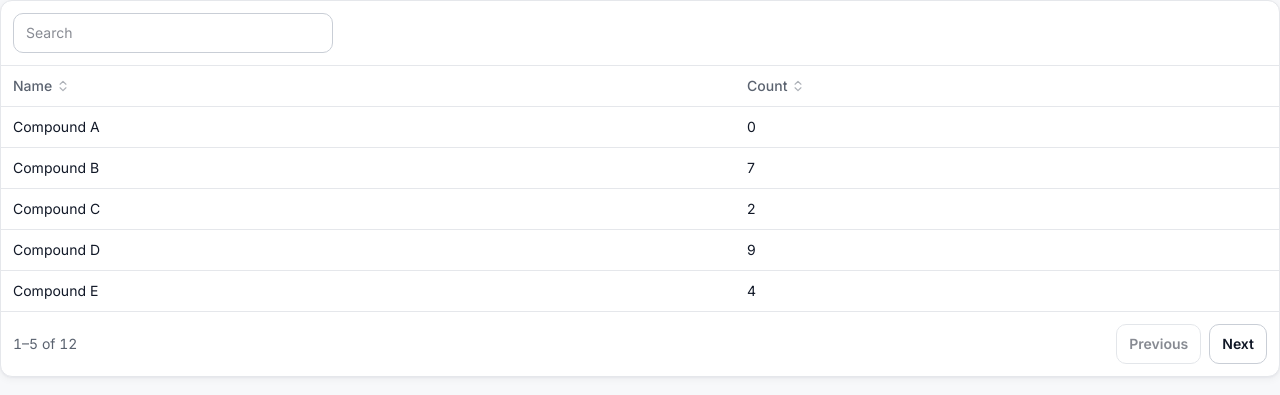
DataTable › sorts ascending then descending
The image size is (1280, 395).
Click the button "Count" at (776, 86), box x1=747 y1=76 x2=805 y2=96
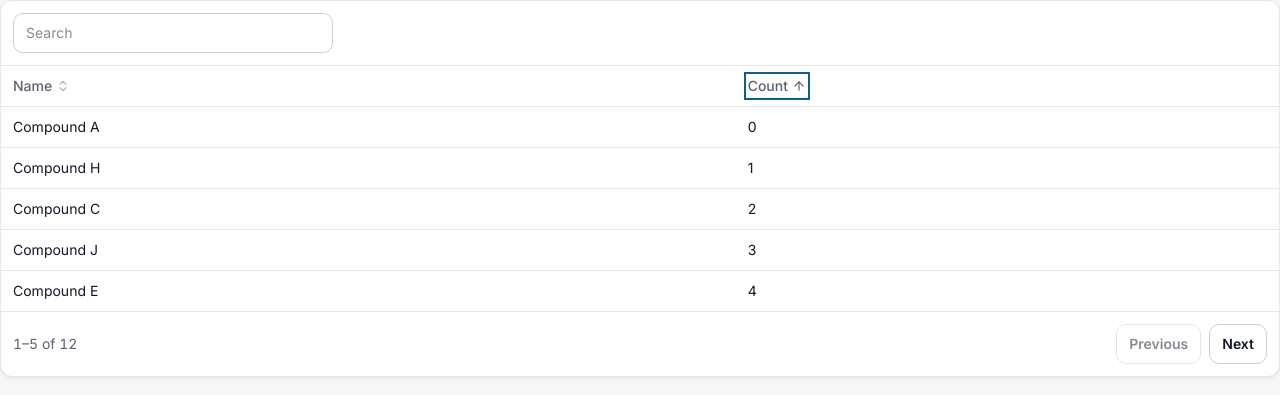
Expected: the cell "Compound A" is shown, x1=1 y1=106 x2=736 y2=148
Expected: the column heading "Count" has attribute aria-sort="ascending", x1=736 y1=66 x2=1279 y2=106
Click the button "Count" at (777, 86), box x1=748 y1=76 x2=806 y2=96
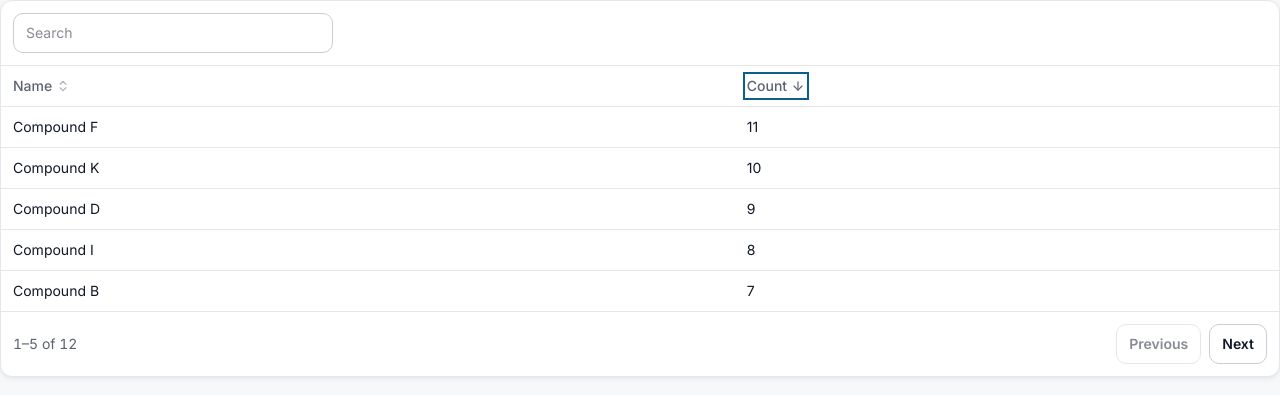
Expected: the cell "11" is shown, x1=735 y1=106 x2=1279 y2=148
